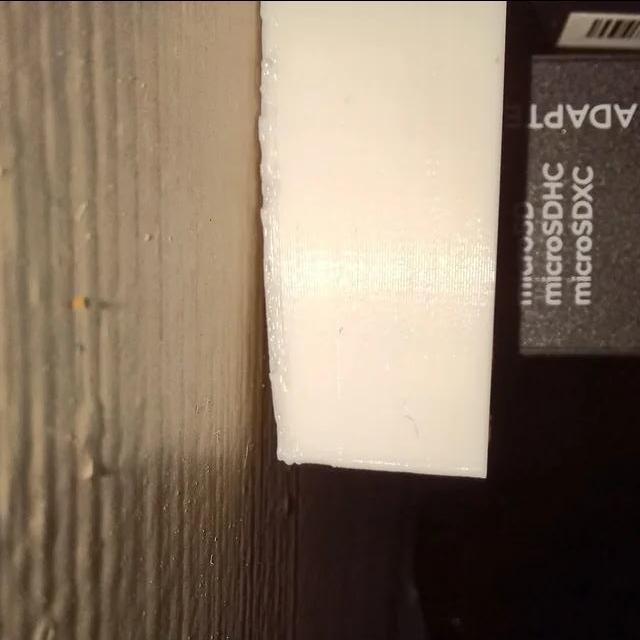Warping: (248, 270, 298, 464)
